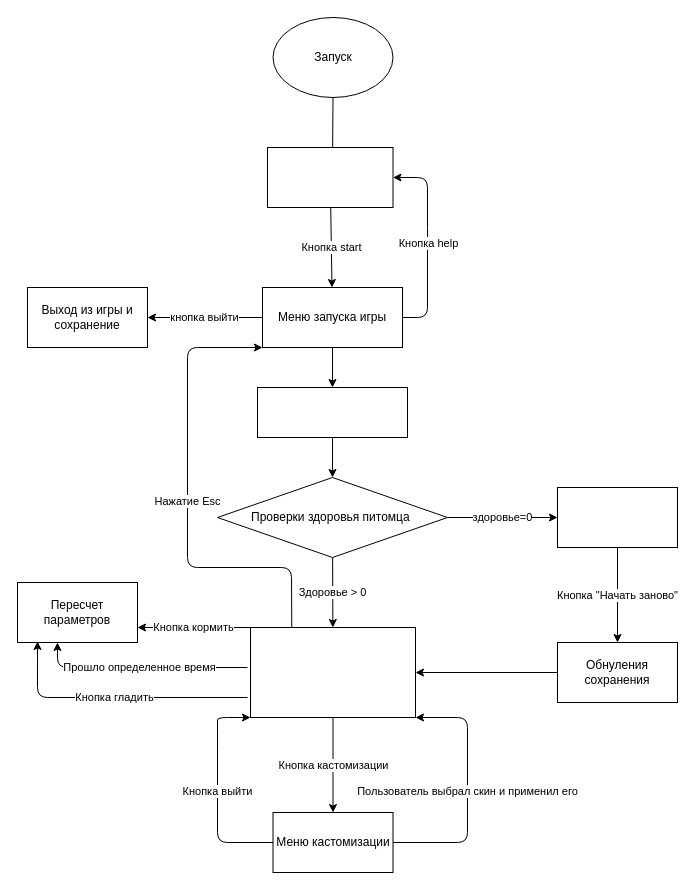
Image size: 695x890. Some labels were removed from this diagram. The box of each missing label's shape, as (x1, y1, x2, y2) in pixels:
Запуск игровой сцены:отрисовка питомца, кнопко фона, шкал параметров: (250, 626, 416, 718)
Меню с информацией о программе: (266, 146, 393, 208)
проверка времени и пересчет параметров питомца: (256, 386, 408, 438)
Сцена смерти: (556, 486, 678, 548)
